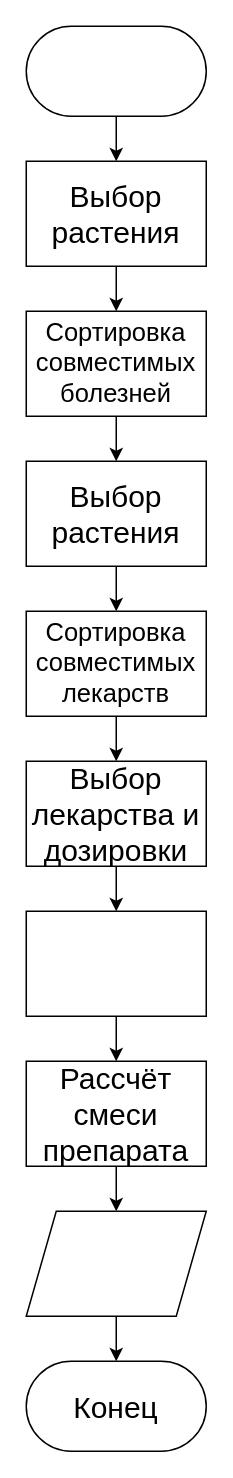
This 233x1478 diagram has some shape labels left out. Here are the shapes that lost their labels. From the top down, the centre of each, then its label:
pixel 115 70: Начало
pixel 115 963: Рассчёт зон поражения
pixel 115 1263: Вывод инструкций к лечению
